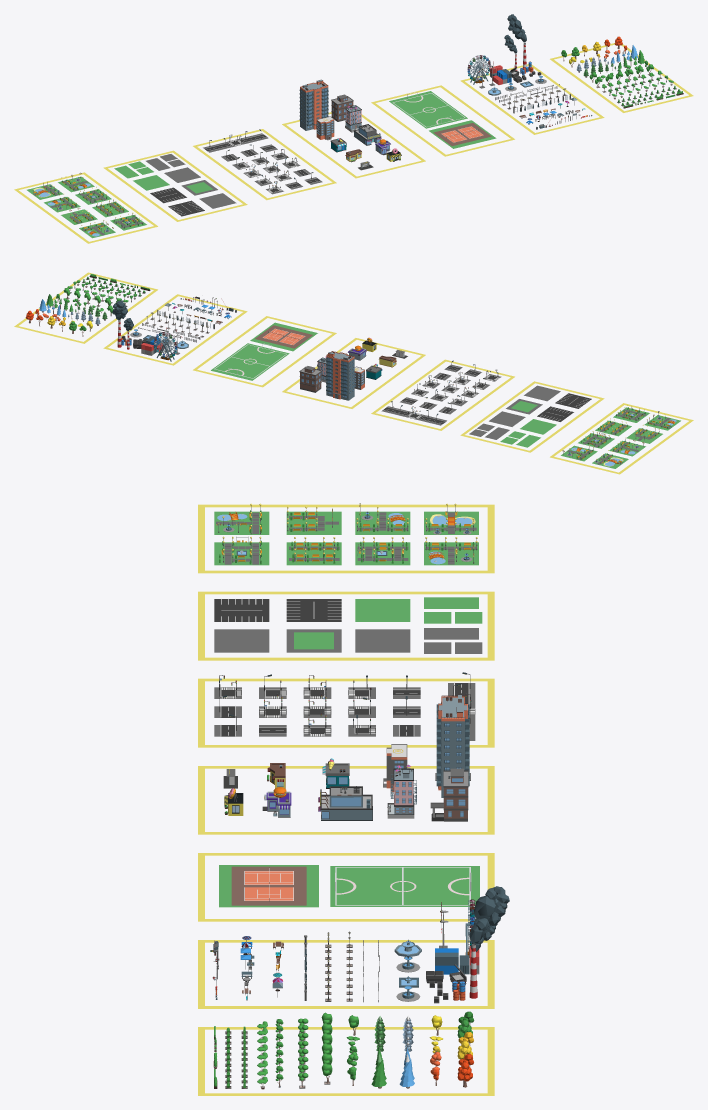
File: Props_for_the_city-6b7a2c90.glb
3 views of the same model, one above another, from view 1: azimuth 30°, elevation 25°; view 2: azimuth 150°, elevation 25°; view 3: azimuth 270°, elevation 25° (orthographic). The views are drawn at different scales.
Parts seen in each view (by area): view 1: Stadium_low_poly._0, Building_low_poly._0, Stadium.002_low_poly._0, Stadium.001_low_poly._0, Park_low_poly._0, Tile.003_low_poly._0, Crossroad_low_poly._0, Props.012_low_poly._0, Building.008_low_poly._0, Tree.002_low_poly._0, Props.010_low_poly._0, Building.010_low_poly._0 (+5 smaller); view 2: Stadium_low_poly._0, Building_low_poly._0, Stadium.002_low_poly._0, Tile.003_low_poly._0, Park_low_poly._0, Stadium.001_low_poly._0, Crossroad_low_poly._0, Props.012_low_poly._0, Building.008_low_poly._0, Tree.002_low_poly._0, Building.010_low_poly._0, Props.010_low_poly._0 (+15 smaller); view 3: Stadium_low_poly._0, Stadium.002_low_poly._0, Tile.003_low_poly._0, Park_low_poly._0, Crossroad_low_poly._0, Building_low_poly._0, Props.012_low_poly._0, Tree.002_low_poly._0, Building.008_low_poly._0, Stadium.001_low_poly._0, Building.007_low_poly._0, Props.015_low_poly._0 (+17 smaller).
Boxes of the visible parts, bbox=[...] form: Stadium_low_poly._0: bbox=[389, 91, 467, 128]; Building_low_poly._0: bbox=[299, 79, 328, 130]; Stadium.002_low_poly._0: bbox=[429, 120, 496, 148]; Stadium.001_low_poly._0: bbox=[371, 85, 514, 156]; Park_low_poly._0: bbox=[14, 172, 157, 243]; Tile.003_low_poly._0: bbox=[103, 150, 247, 221]; Crossroad_low_poly._0: bbox=[193, 129, 336, 200]; Props.012_low_poly._0: bbox=[460, 64, 604, 134]; Building.008_low_poly._0: bbox=[282, 112, 425, 178]; Tree.002_low_poly._0: bbox=[550, 43, 693, 112]; Props.010_low_poly._0: bbox=[467, 55, 490, 84]; Building.010_low_poly._0: bbox=[331, 94, 353, 121]; Stadium_low_poly._0: bbox=[211, 343, 289, 380]; Building_low_poly._0: bbox=[326, 351, 354, 400]; Stadium.002_low_poly._0: bbox=[250, 322, 317, 351]; Tile.003_low_poly._0: bbox=[460, 381, 604, 452]; Park_low_poly._0: bbox=[550, 403, 693, 474]; Stadium.001_low_poly._0: bbox=[193, 316, 336, 387]; Crossroad_low_poly._0: bbox=[371, 359, 514, 430]; Props.012_low_poly._0: bbox=[103, 294, 247, 365]; Building.008_low_poly._0: bbox=[282, 338, 425, 408]; Tree.002_low_poly._0: bbox=[14, 272, 157, 343]; Building.010_low_poly._0: bbox=[299, 366, 321, 392]; Props.010_low_poly._0: bbox=[154, 332, 177, 361]; Stadium_low_poly._0: bbox=[330, 866, 479, 906]; Stadium.002_low_poly._0: bbox=[219, 865, 318, 907]; Tile.003_low_poly._0: bbox=[198, 591, 494, 660]; Park_low_poly._0: bbox=[198, 504, 494, 573]; Crossroad_low_poly._0: bbox=[198, 678, 494, 747]; Building_low_poly._0: bbox=[435, 695, 470, 797]; Props.012_low_poly._0: bbox=[198, 940, 494, 1008]; Tree.002_low_poly._0: bbox=[198, 1027, 494, 1095]; Building.008_low_poly._0: bbox=[198, 766, 494, 834]; Stadium.001_low_poly._0: bbox=[198, 853, 494, 921]; Building.007_low_poly._0: bbox=[318, 786, 372, 820]; Props.015_low_poly._0: bbox=[469, 886, 509, 998].
Size of the model in its own units: 407 by 34.62 by 90.8.
1 material, 1 textured.
